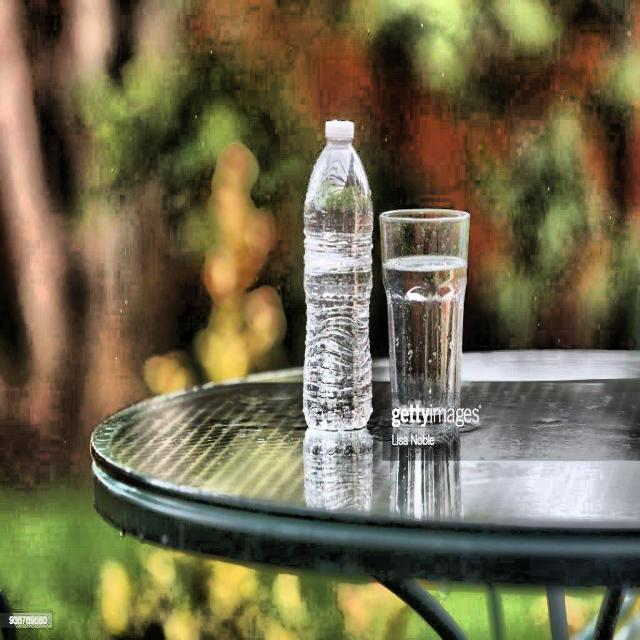Bottles: (290, 96, 388, 444)
